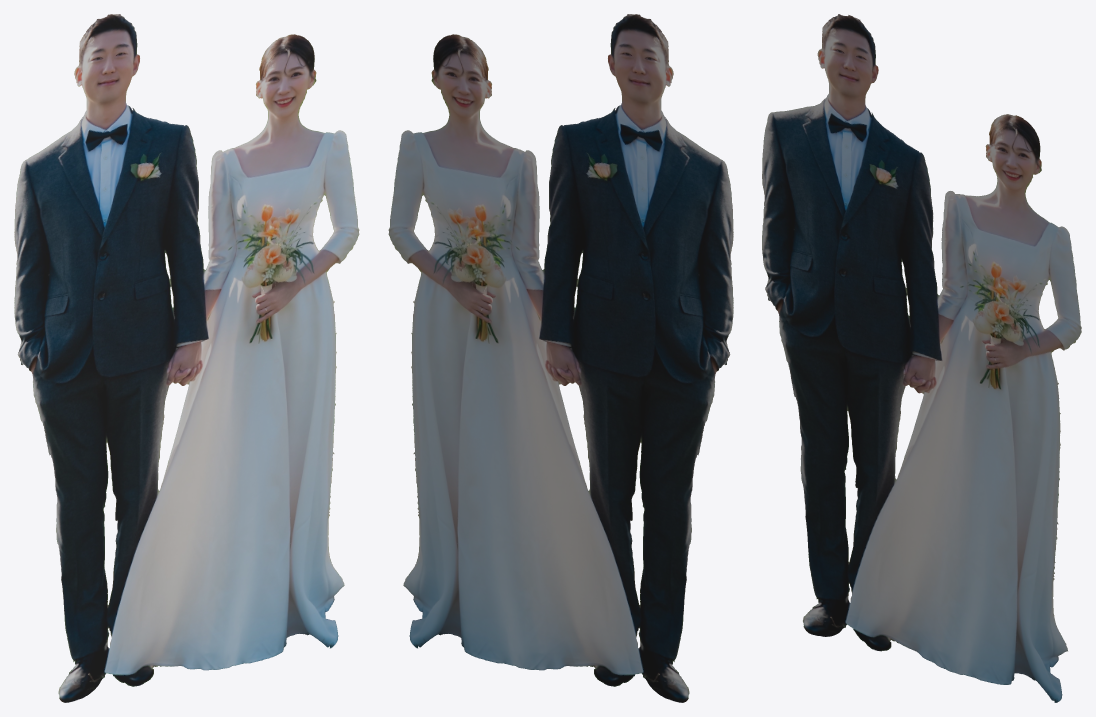
File: arwedding2.glb
3 views of the same model, side by side, from view 1: azimuth 30°, elevation 25°; view 2: azimuth 150°, elevation 25°; view 3: azimuth 330°, elevation 25° (orthographic). The views are drawn at different scales.
Parts seen in each view (by area): view 1: wedding_i2m_Front; view 2: wedding_i2m_Front; view 3: wedding_i2m_Front.
Boxes of the visible parts, x1,y1,x2,y2 form: wedding_i2m_Front: (14,14,359,702); wedding_i2m_Front: (388,14,733,702); wedding_i2m_Front: (762,14,1081,702).
Size of the model in its own units: 1.01 by 1.93 by 0.
Materials: 1 (1 with a texture image).
